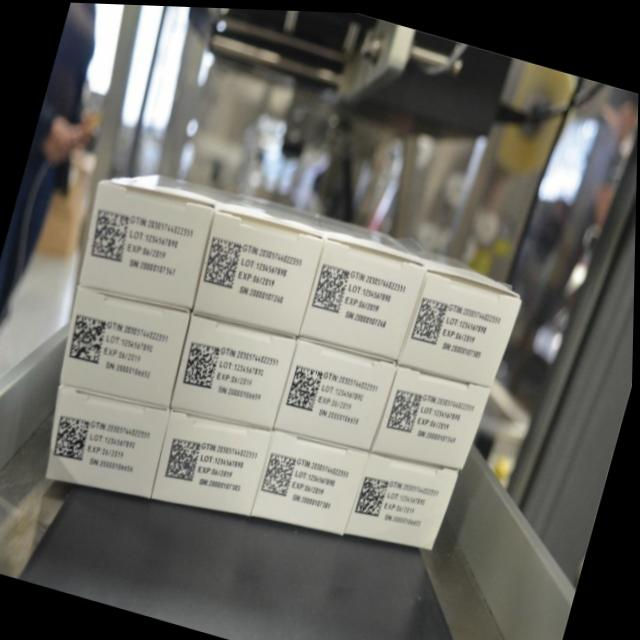datamatrix: (83, 200, 141, 270), (64, 308, 116, 370), (47, 407, 99, 469), (199, 230, 247, 294), (180, 334, 226, 396), (311, 255, 356, 314), (352, 467, 396, 525), (259, 448, 303, 506), (408, 290, 452, 347), (385, 378, 429, 435), (286, 358, 330, 415), (164, 430, 208, 487)
